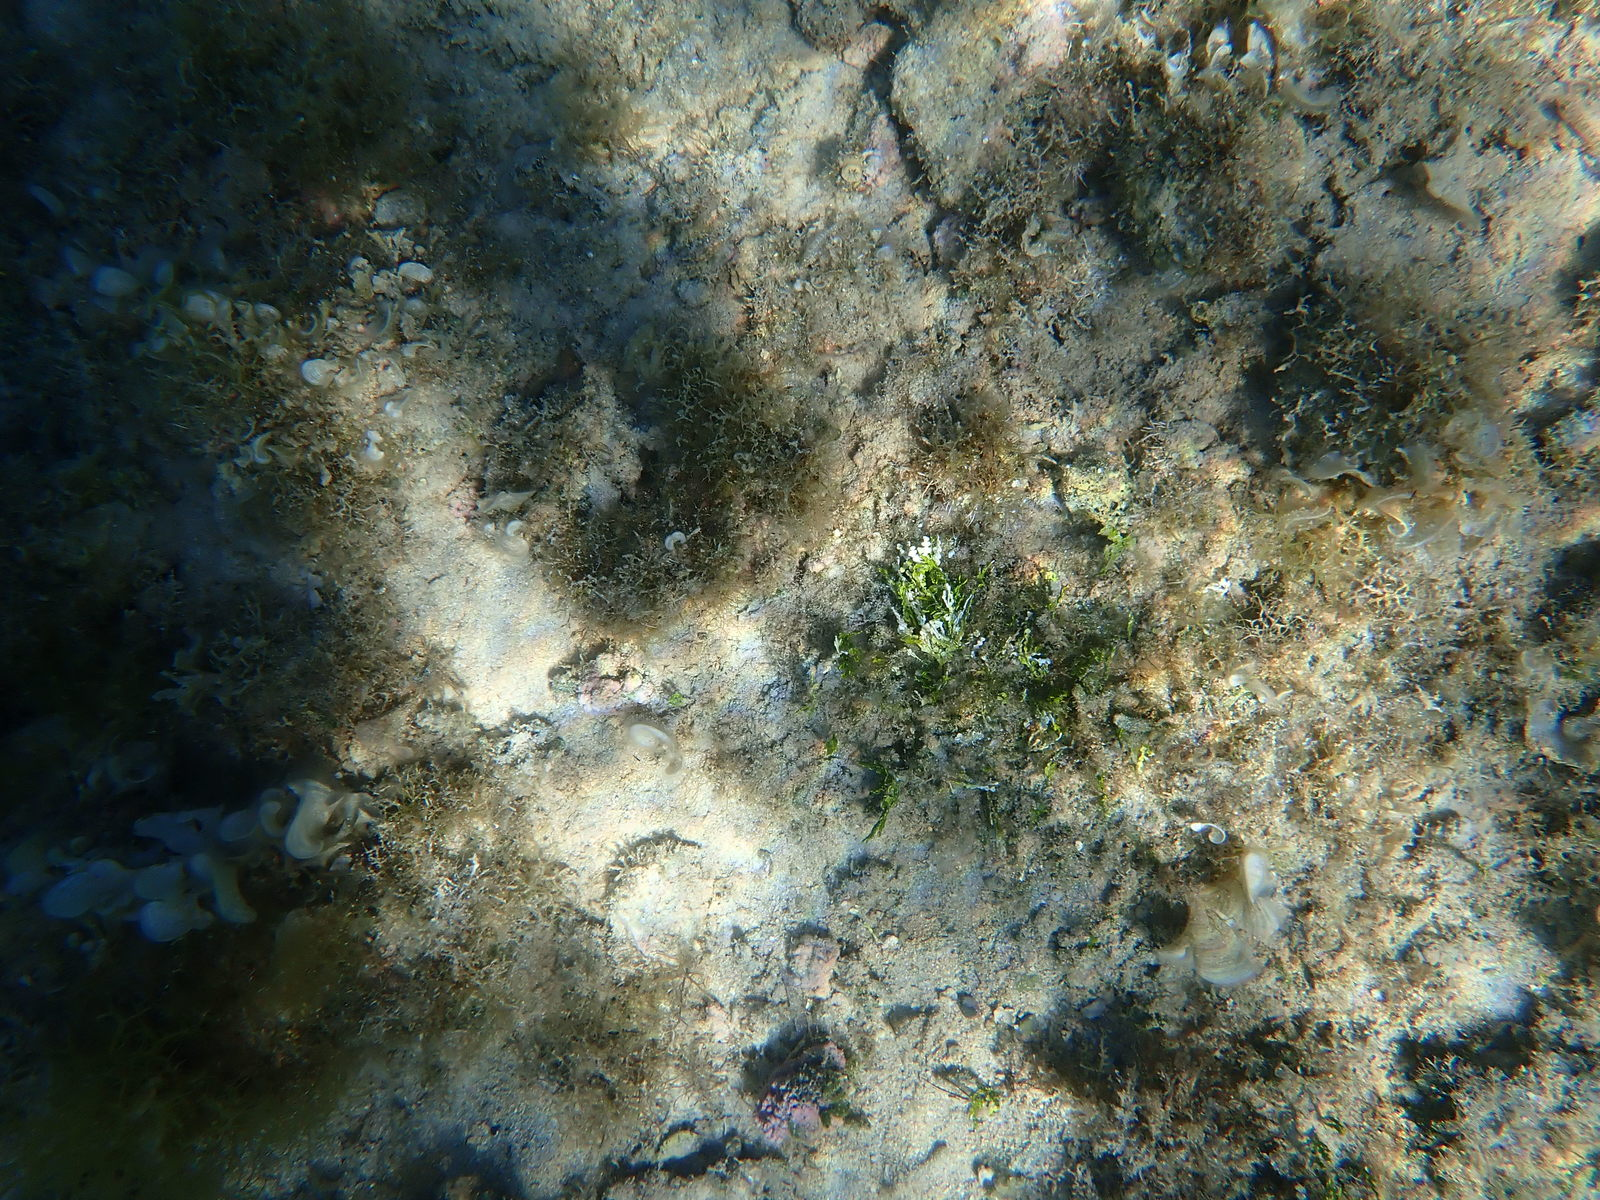halimeda: (882, 563, 974, 655), (1000, 632, 1054, 677), (864, 782, 900, 841), (894, 533, 949, 570), (1099, 523, 1133, 568), (968, 1087, 1002, 1124), (833, 632, 858, 679), (941, 778, 1000, 797), (1094, 771, 1112, 819), (1090, 645, 1112, 677), (803, 676, 819, 716), (974, 558, 991, 591), (860, 650, 884, 673), (956, 729, 989, 745), (860, 760, 894, 775), (1136, 742, 1151, 770), (665, 688, 685, 705), (971, 626, 983, 655), (1036, 710, 1054, 725), (826, 736, 839, 758), (1128, 613, 1136, 643), (1041, 568, 1063, 580), (1043, 759, 1054, 776), (1048, 599, 1058, 616), (1062, 584, 1068, 599)
